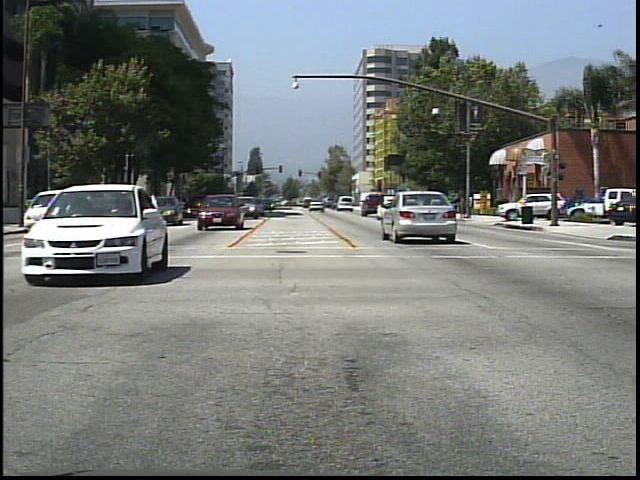person: (462, 190, 478, 222), (431, 189, 448, 219)
